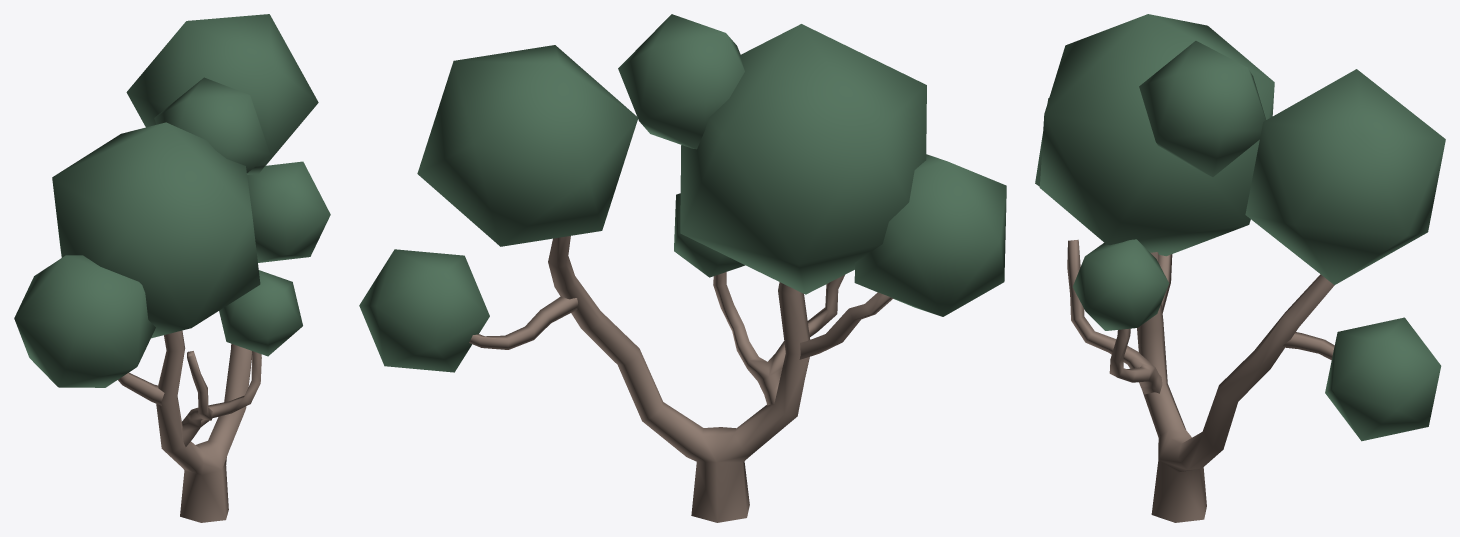
Rendered from tree2.obj.
3 views of the same model, side by side, from view 1: azimuth 30°, elevation 25°; view 2: azimuth 150°, elevation 25°; view 3: azimuth 270°, elevation 25° (orthographic). The views are drawn at different scales.
Parts seen in each view (by area): view 1: TreeT2_Tree_lp_11; view 2: TreeT2_Tree_lp_11; view 3: TreeT2_Tree_lp_11.
Boxes of the visible parts, left/top/right/bottom form: TreeT2_Tree_lp_11: left=14, top=14, right=330, bottom=522; TreeT2_Tree_lp_11: left=359, top=14, right=1006, bottom=522; TreeT2_Tree_lp_11: left=1035, top=14, right=1445, bottom=522.
Bounding box in the file's own units: 5.33 × 5.06 × 3.96.
